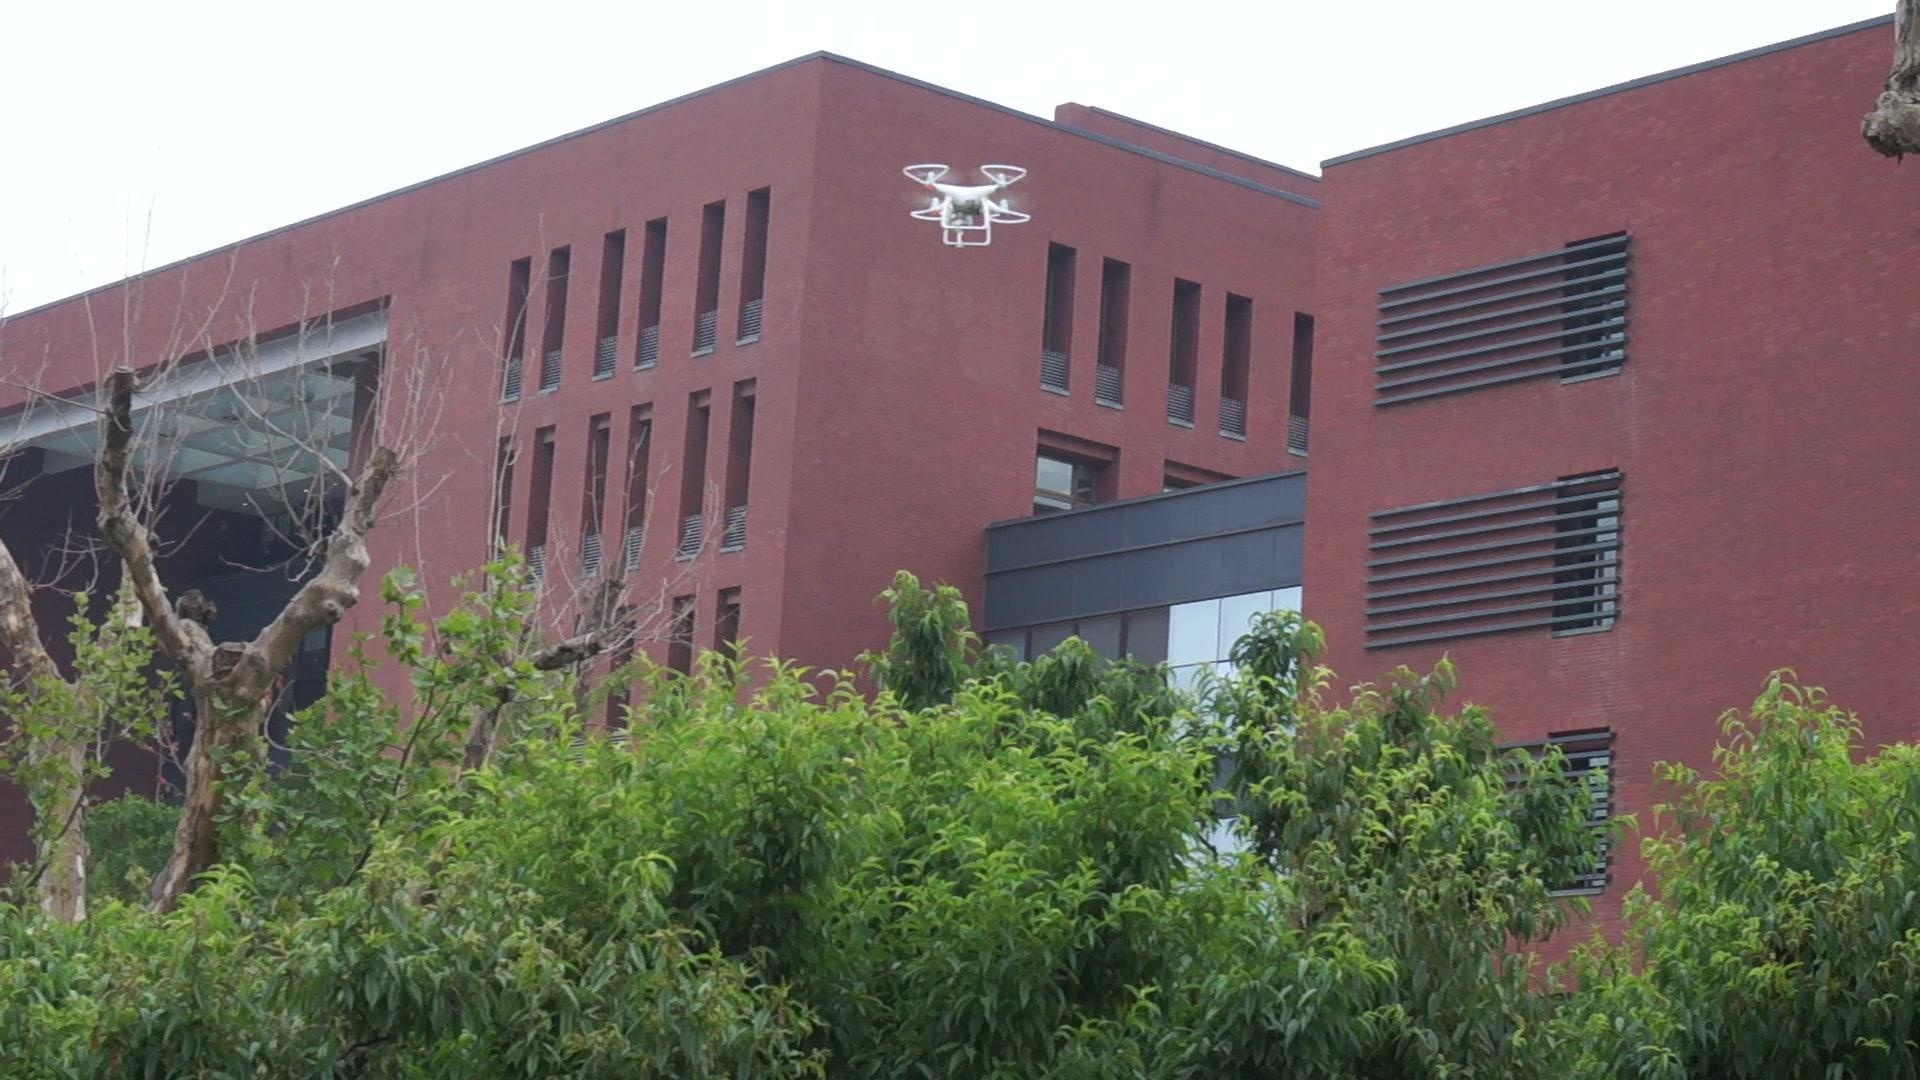UAV: (903, 164, 1033, 249)
